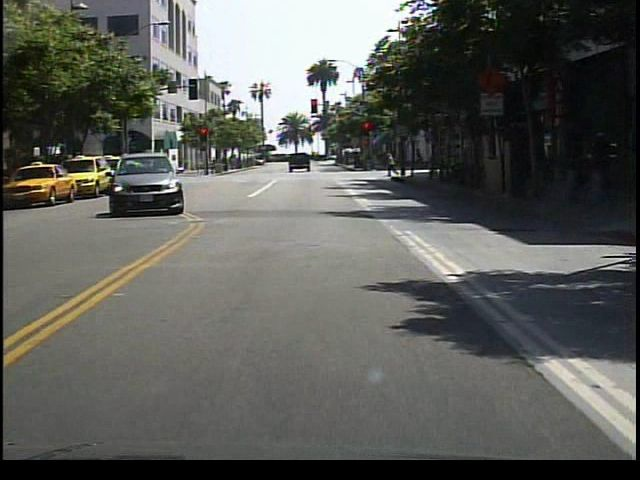person: (412, 145, 427, 175), (387, 150, 402, 177)
